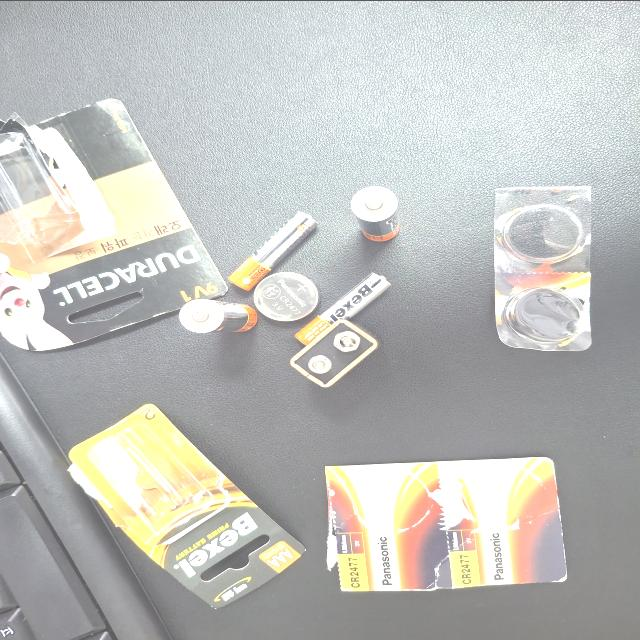9V: (338, 378, 426, 444)
AA: (411, 295, 456, 353), (533, 424, 606, 459)
AAA: (468, 332, 572, 398), (394, 382, 490, 452)
COIN: (428, 351, 492, 398)
